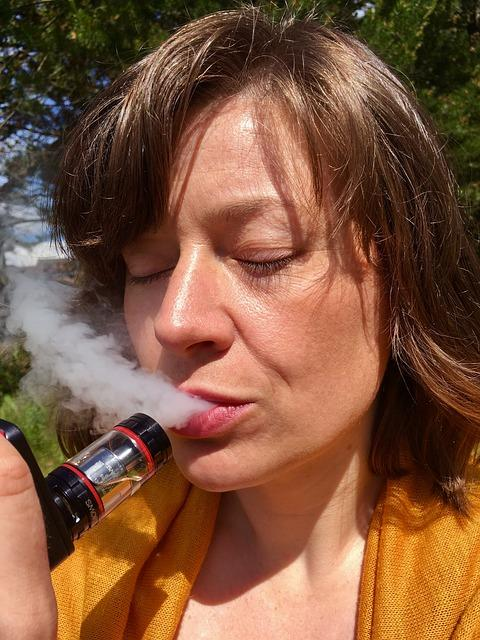smoker: (0, 47, 391, 640)
